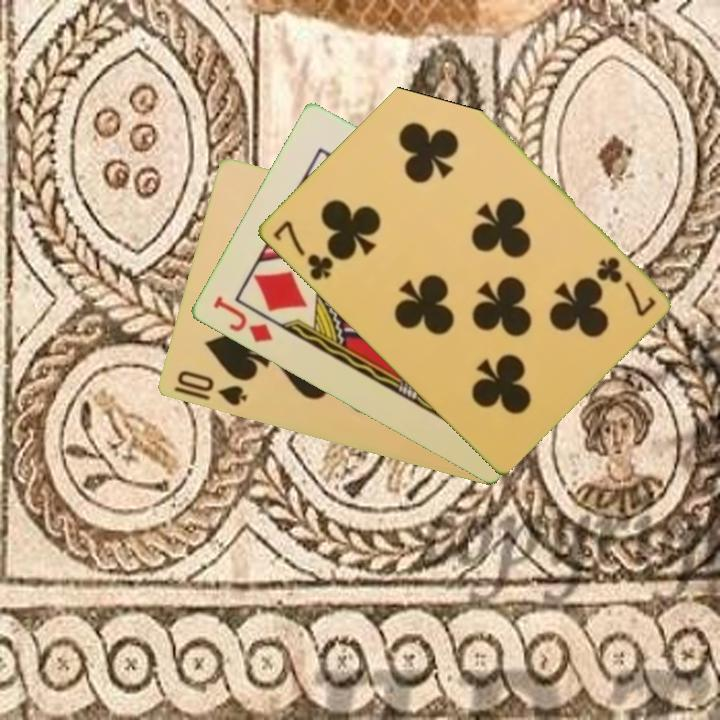10s: (173, 367, 249, 409)
7c: (268, 216, 336, 284), (592, 253, 659, 320)
Jd: (209, 293, 276, 346)
